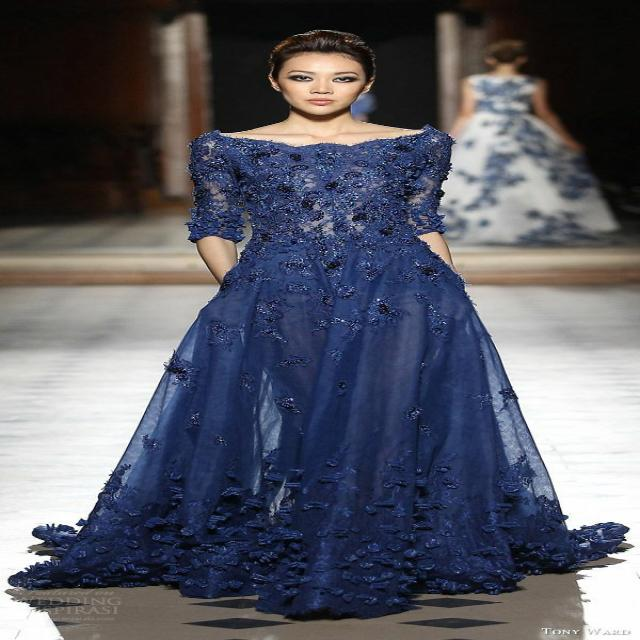female-dress: (150, 127, 588, 604)
